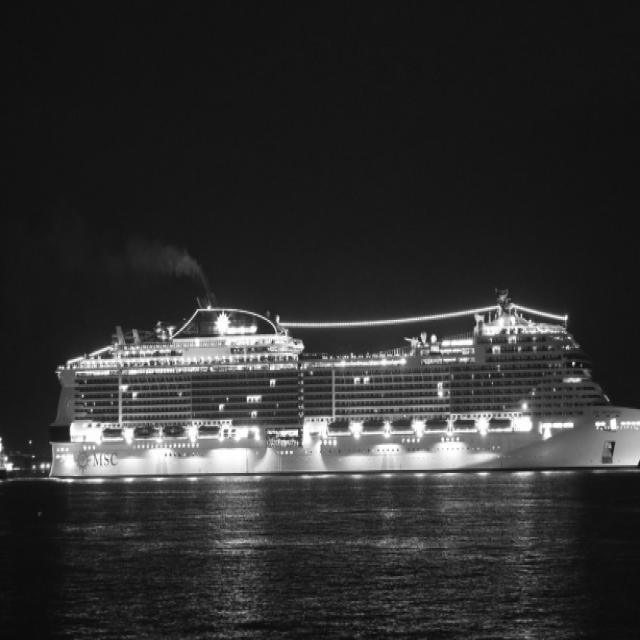cruises: (47, 293, 640, 488)
